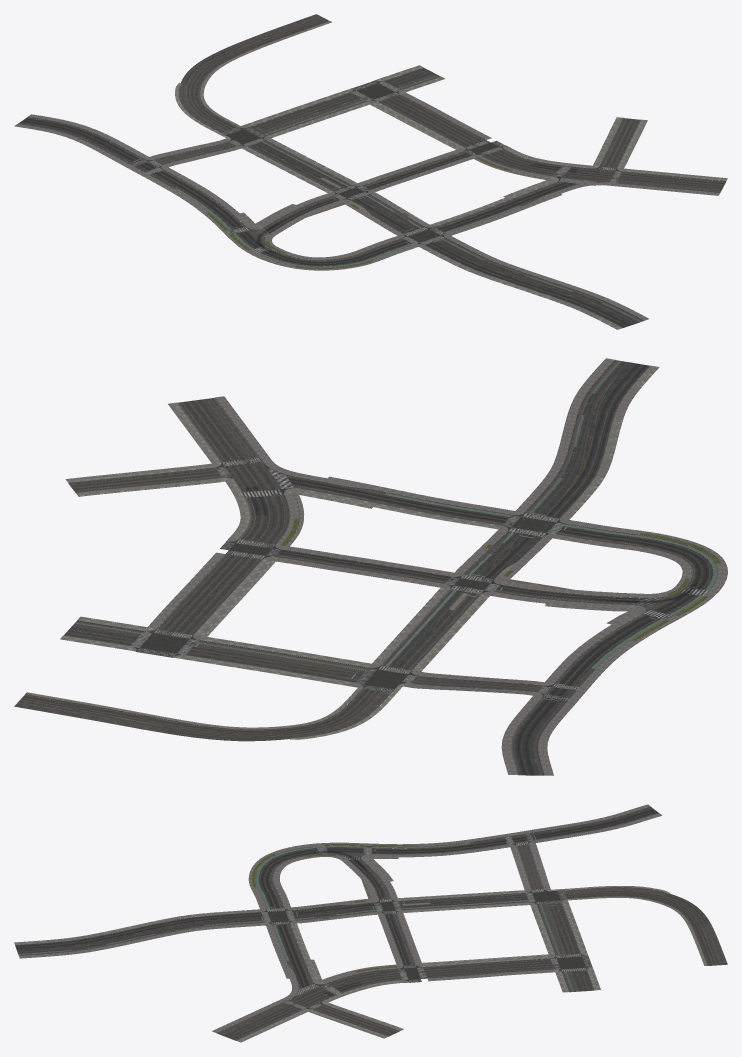
The model's file is city3.glb.
3 renders of one model, top to bottom at view 1: azimuth 30°, elevation 25°; view 2: azimuth 150°, elevation 25°; view 3: azimuth 270°, elevation 25°, orthographic. The views are drawn at different scales.
Parts seen in each view (by area): view 1: Road002, Road008, Road009, Road006, Road005, Road010, Road007, Road011, Road001, Road003; view 2: Road002, Road008, Road009, Road005, Road006, Road010, Road001, Road011, Road007, Road003; view 3: Road002, Road008, Road009, Road006, Road005, Road010, Road007, Road011, Road001, Road003.
Boxes of the visible parts, box(x1,y1,x2,y2) form: Road002: box(14, 21, 719, 327); Road008: box(20, 71, 639, 327); Road009: box(18, 18, 725, 233); Road006: box(27, 14, 726, 321); Road005: box(175, 21, 727, 329); Road010: box(131, 81, 621, 253); Road007: box(175, 75, 640, 322); Road011: box(146, 81, 619, 243); Road001: box(133, 20, 722, 314); Road003: box(206, 157, 511, 269); Road002: box(25, 358, 727, 775); Road008: box(69, 361, 713, 775); Road009: box(20, 399, 594, 775); Road005: box(25, 365, 659, 739); Road006: box(14, 360, 694, 775); Road010: box(131, 457, 708, 700); Road001: box(15, 375, 712, 739); Road011: box(134, 463, 564, 695); Road007: box(74, 361, 717, 670); Road003: box(281, 518, 720, 640); Road002: box(15, 804, 707, 1032); Road008: box(15, 808, 658, 996); Road009: box(223, 807, 715, 1039); Road006: box(18, 813, 727, 1040); Road005: box(14, 886, 707, 1042); Road010: box(261, 833, 592, 1009); Road007: box(18, 842, 573, 991); Road011: box(262, 841, 589, 1009); Road001: box(42, 835, 720, 1036); Road003: box(252, 844, 413, 972).
Bounding box in the file's own units: 444 × 17.1 × 594.
Materials: 11 (11 with a texture image).
